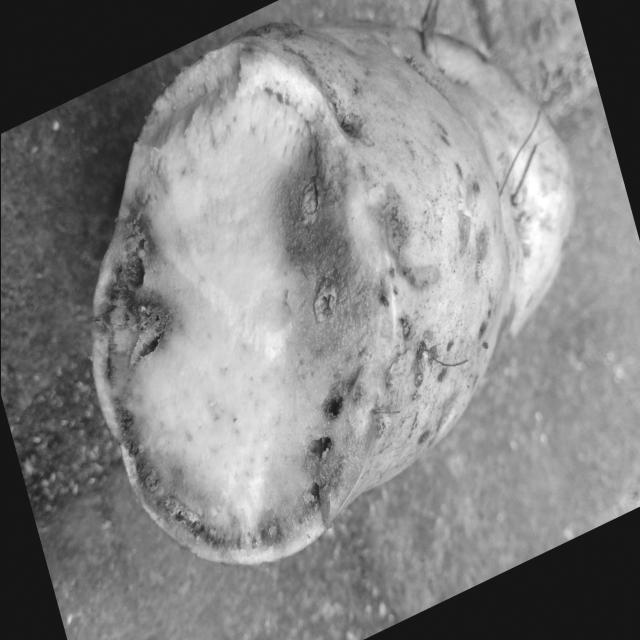Sick Sweet Potato_Tuber Rot: (91, 45, 362, 562)
